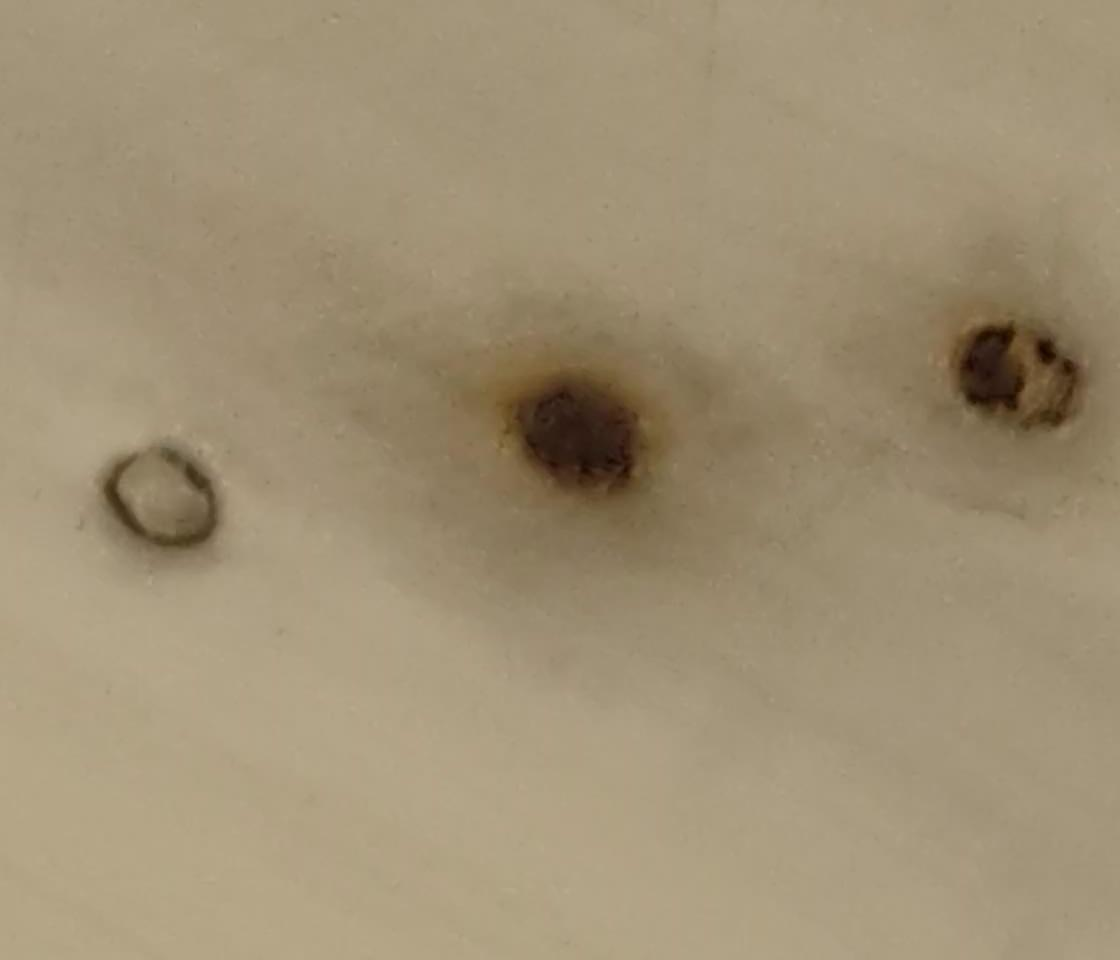rust: (952, 315, 1084, 440), (515, 377, 644, 493)
